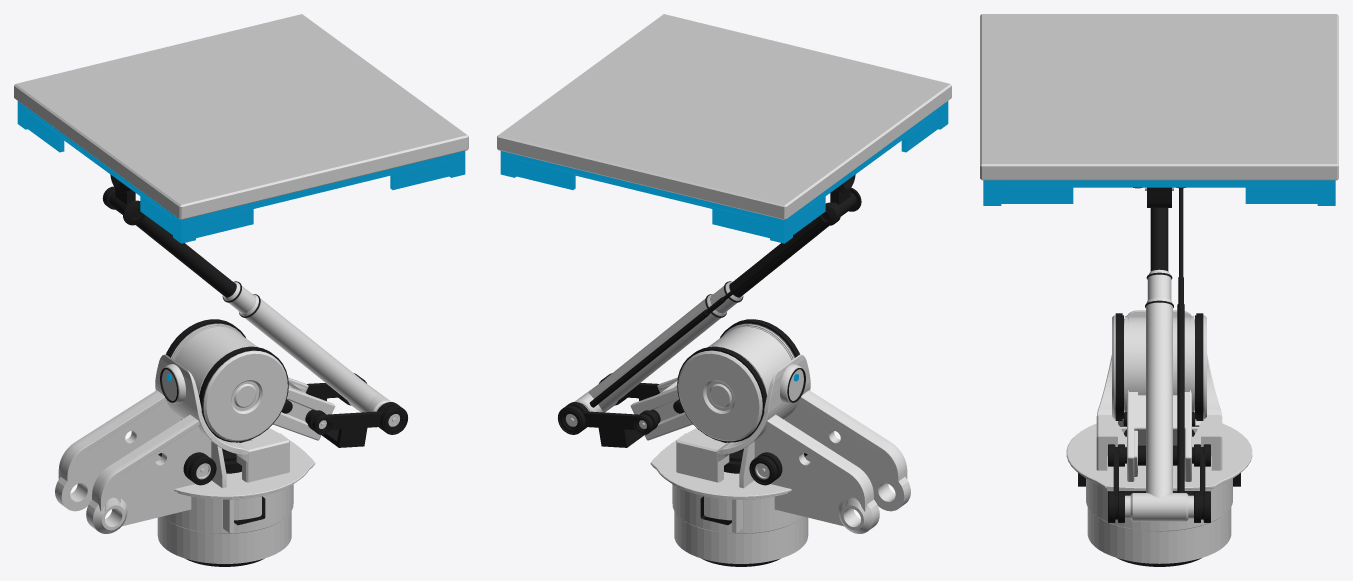
The model's file is portal arm with ik.fbx.
3 views of the same model, side by side, from view 1: azimuth 30°, elevation 25°; view 2: azimuth 150°, elevation 25°; view 3: azimuth 270°, elevation 25° (orthographic). The views are drawn at different scales.
Visible parts, largest first — view 1: Cube, Cube_3_2, Cylinder_6_2, Cylinder_4_5, Cylinder_5, Cube_1_3_2, Connect_1, Cube_1_2_2, Cube_2_2, Cube_2, Cylinder_3_2, Null_3 (+7 smaller); view 2: Cube, Cube_3_2, Cylinder_6_2, Cylinder_4_5, Cylinder_5, Cube_1_0, Cube_1_1, Connect_1, Cube_2_2, Cube_2, Null_3, Cube_3 (+9 smaller); view 3: Cube, Cylinder_6_2, Cylinder_5, Cylinder_4_5, Cylinder_7_2, Cube_1_1, Cube_1_2_2, Cube_3, Cube_2_2, Cylinder_6, Null_3, Cylinder_3_2 (+3 smaller).
Boxes of the visible parts, bbox=[...] form: Cube: bbox=[14, 14, 468, 219]; Cube_3_2: bbox=[58, 390, 211, 526]; Cylinder_6_2: bbox=[157, 428, 315, 566]; Cylinder_4_5: bbox=[166, 319, 288, 442]; Cylinder_5: bbox=[222, 281, 377, 411]; Cube_1_3_2: bbox=[100, 161, 323, 243]; Connect_1: bbox=[55, 460, 127, 533]; Cube_1_2_2: bbox=[323, 151, 465, 191]; Cube_2_2: bbox=[236, 431, 289, 482]; Cube_2: bbox=[306, 383, 383, 447]; Cylinder_3_2: bbox=[136, 215, 236, 297]; Null_3: bbox=[155, 354, 249, 461]; Cube: bbox=[497, 14, 951, 219]; Cube_3_2: bbox=[754, 390, 907, 526]; Cylinder_6_2: bbox=[650, 428, 808, 566]; Cylinder_4_5: bbox=[677, 319, 799, 442]; Cylinder_5: bbox=[588, 281, 743, 411]; Cube_1_0: bbox=[642, 161, 865, 243]; Cube_1_1: bbox=[500, 151, 642, 191]; Connect_1: bbox=[838, 461, 910, 533]; Cube_2_2: bbox=[676, 431, 729, 482]; Cube_2: bbox=[582, 383, 659, 447]; Null_3: bbox=[716, 354, 810, 461]; Cube_3: bbox=[630, 377, 692, 440]; Cube: bbox=[980, 14, 1338, 180]; Cylinder_6_2: bbox=[1066, 423, 1252, 566]; Cylinder_5: bbox=[1145, 269, 1173, 497]; Cylinder_4_5: bbox=[1112, 313, 1206, 420]; Cylinder_7_2: bbox=[1108, 491, 1210, 522]; Cube_1_1: bbox=[1159, 180, 1335, 205]; Cube_1_2_2: bbox=[983, 180, 1159, 205]; Cube_3: bbox=[1127, 390, 1191, 481]; Cube_2_2: bbox=[1096, 415, 1222, 470]; Cylinder_6: bbox=[1177, 276, 1184, 492]; Null_3: bbox=[1096, 310, 1222, 428]; Cylinder_3_2: bbox=[1150, 208, 1168, 271].
Bounding box in the file's own units: 108 × 142 × 99.75.
